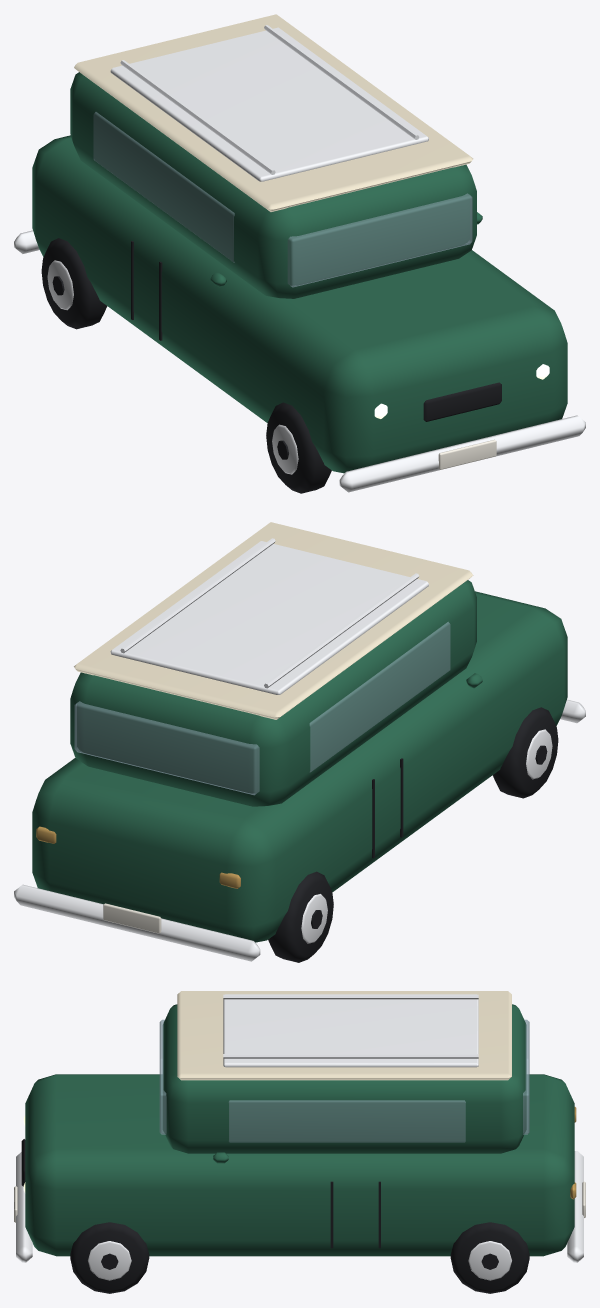
File: car_suv.glb
The picture shows the model from 3 angles, top to bottom: view 1: azimuth 30°, elevation 25°; view 2: azimuth 150°, elevation 25°; view 3: azimuth 270°, elevation 25°; orthographic projection. The views are drawn at different scales.
Visible parts, largest first — view 1: car_suv; view 2: car_suv; view 3: car_suv.
Boxes of the visible parts, bbox=[...] form: car_suv: bbox=[14, 14, 585, 493]; car_suv: bbox=[14, 522, 585, 962]; car_suv: bbox=[14, 991, 585, 1293].
Bounding box in the file's own units: 2.05 × 1.9 × 4.48.
